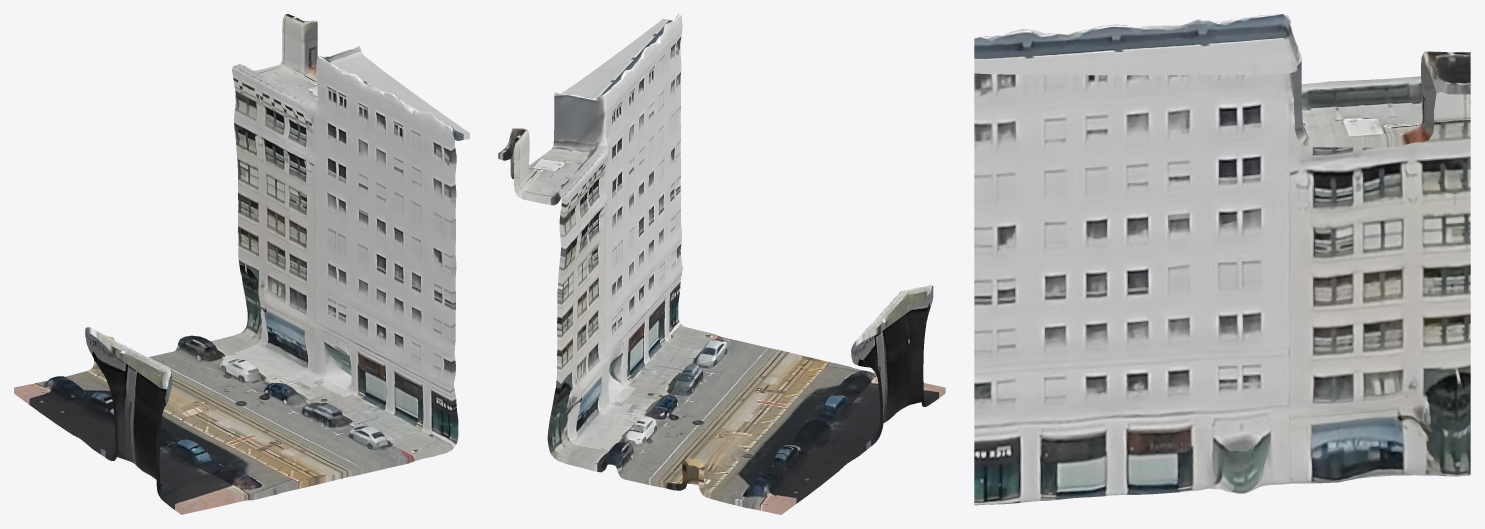
Rendered from z20-167781-405227-h0-yup-uvflip-v3-world.glb.
3 views of the same model, side by side, from view 1: azimuth 30°, elevation 25°; view 2: azimuth 150°, elevation 25°; view 3: azimuth 270°, elevation 25° (orthographic). The views are drawn at different scales.
Size of the model in its own units: 30.16 by 32.84 by 30.32.
1 material, 1 textured.
